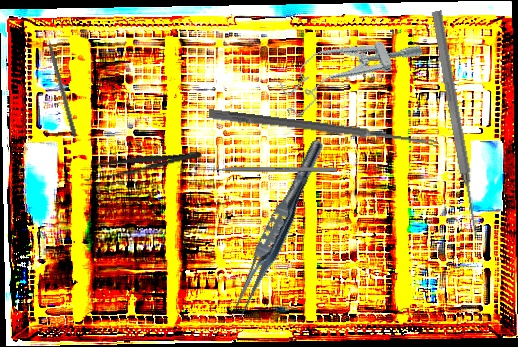Dressing Forceps: (81, 143, 204, 185)
Pusher: (428, 9, 484, 238), (42, 24, 79, 138), (193, 167, 337, 172)
Speculum: (270, 16, 428, 120)
Surgical Spoon: (208, 108, 439, 149)
Tissue Forceps: (225, 133, 329, 326)
